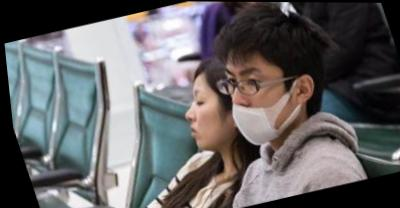NONE: (176, 82, 232, 154)
WRONG: (214, 56, 294, 148)
